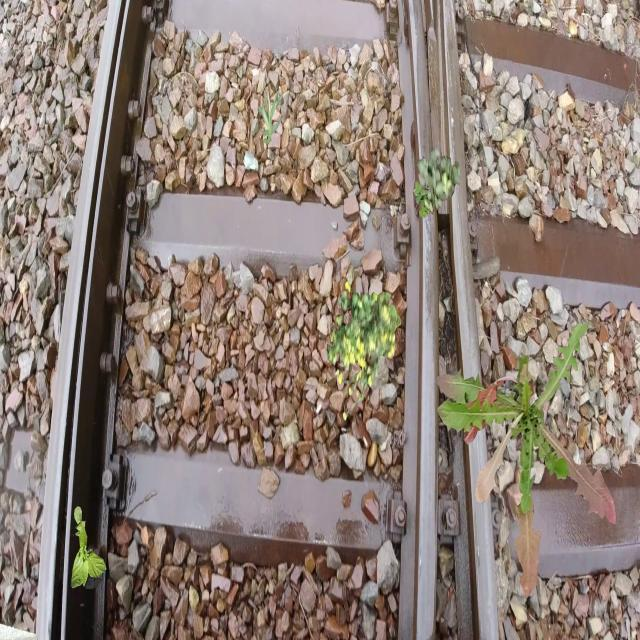Plant: (436, 321, 616, 599), (327, 281, 402, 421), (71, 506, 106, 590), (417, 148, 460, 214), (257, 88, 284, 144), (413, 178, 437, 219)
